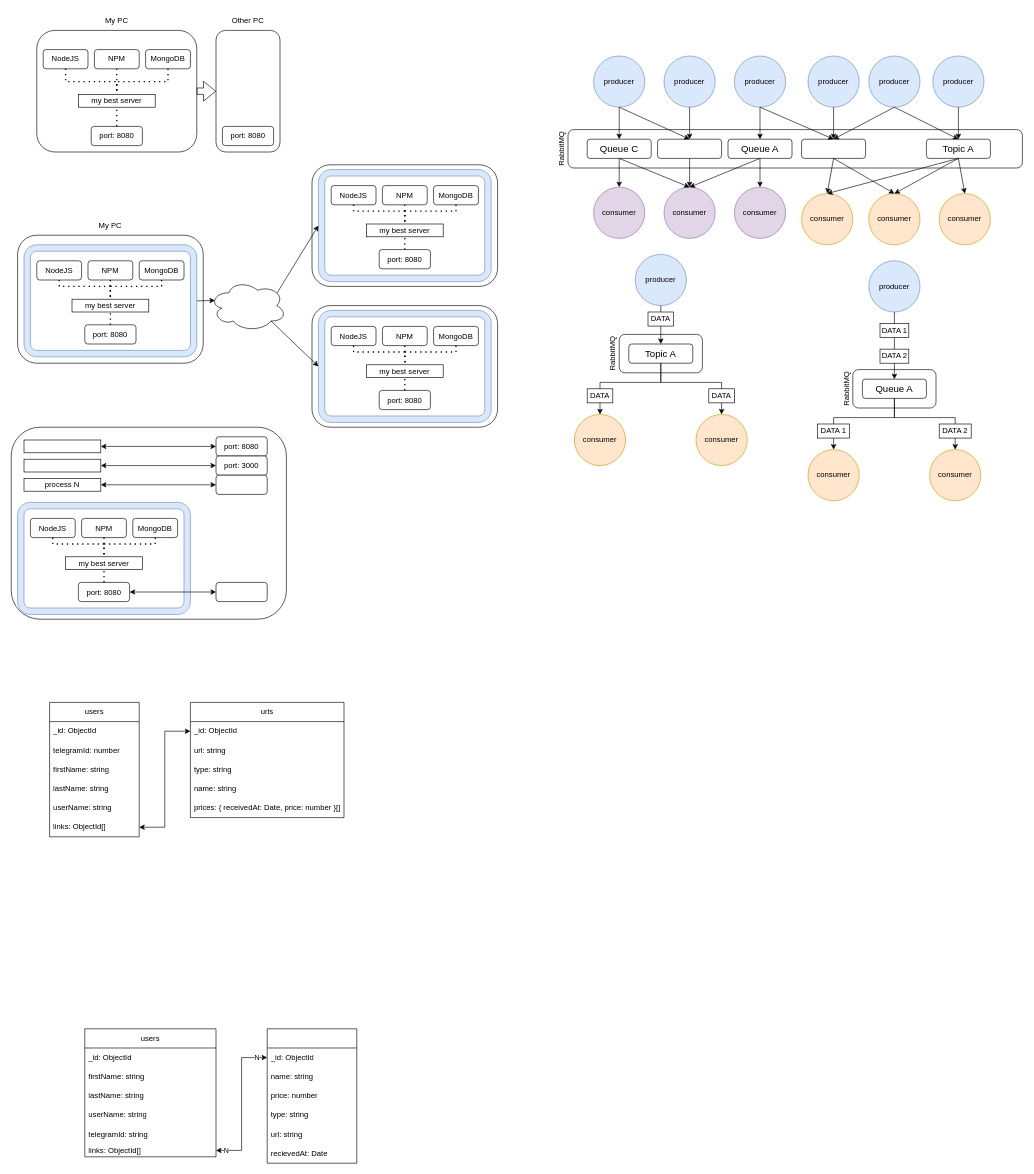
This 1034x1174 diagram has some shape labels left out. Each missing label, with the box of its shape:
Docker: (209, 279, 286, 331)
links: (267, 1028, 357, 1163)
port: 8000: (215, 475, 267, 494)
port: 8081: (215, 582, 267, 602)
process 1: (23, 439, 101, 453)
process 2: (23, 459, 101, 472)
Queue B: (657, 139, 722, 158)
TopicB: (801, 139, 866, 158)
